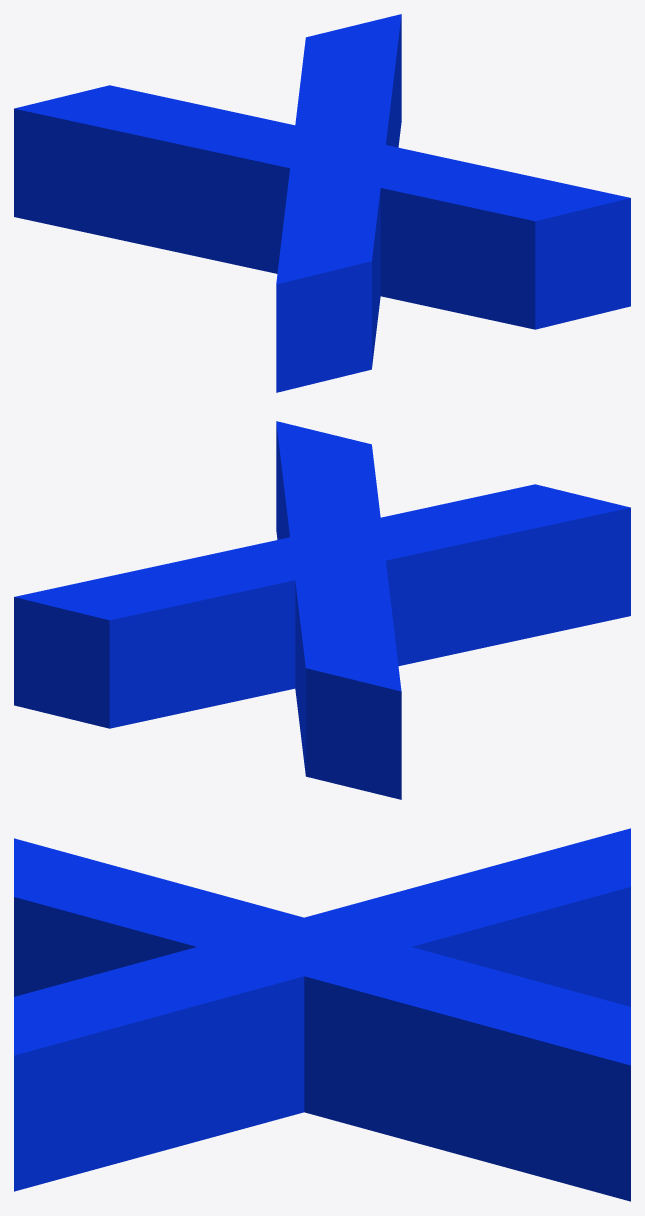
File: ExpLetterX.FBX
The picture shows the model from 3 angles, top to bottom: view 1: azimuth 30°, elevation 25°; view 2: azimuth 150°, elevation 25°; view 3: azimuth 270°, elevation 25°; orthographic projection. The views are drawn at different scales.
Visible parts, largest first — view 1: Saliente-Extruir1; view 2: Saliente-Extruir1; view 3: Saliente-Extruir1.
Boxes of the visible parts, bbox=[...] form: Saliente-Extruir1: bbox=[14, 14, 630, 392]; Saliente-Extruir1: bbox=[14, 421, 630, 799]; Saliente-Extruir1: bbox=[14, 828, 630, 1201].
Size of the model in its own units: 0.4418 by 0.1181 by 0.4854.
